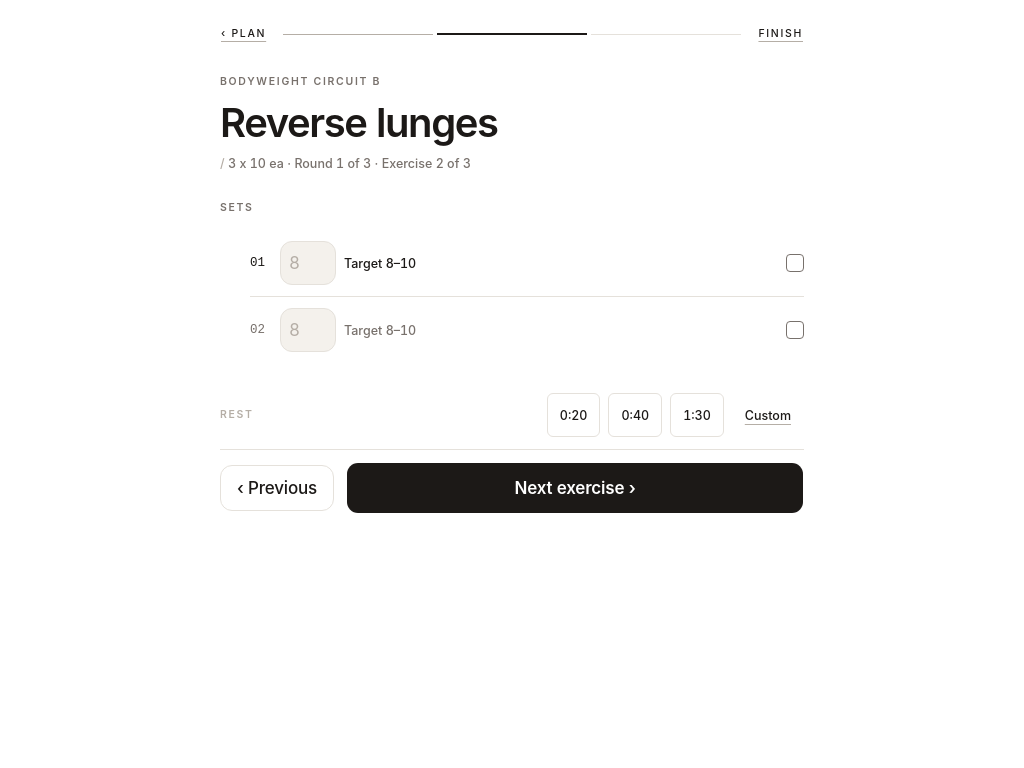
Test case: Skip session, once a set is logged › asks before it records, and records nothing by asking
Click the button with aria-label "Finish session": (781, 34) [758,12,804,56]
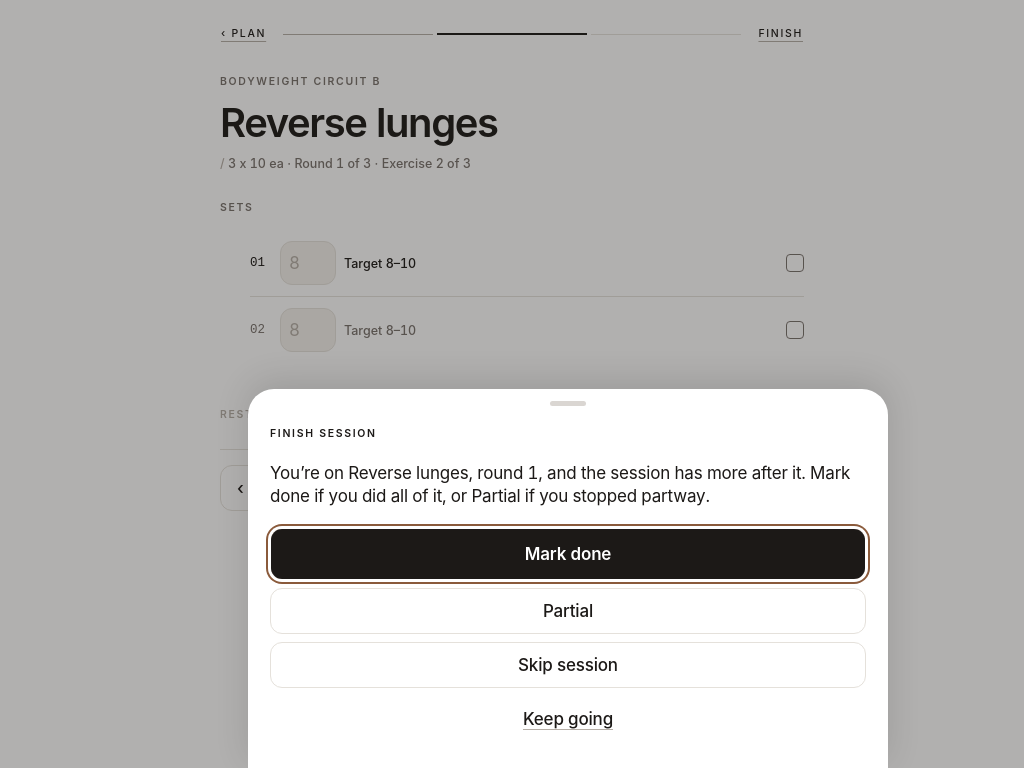
Click the button "Skip session": (568, 665) [270,642,866,688]
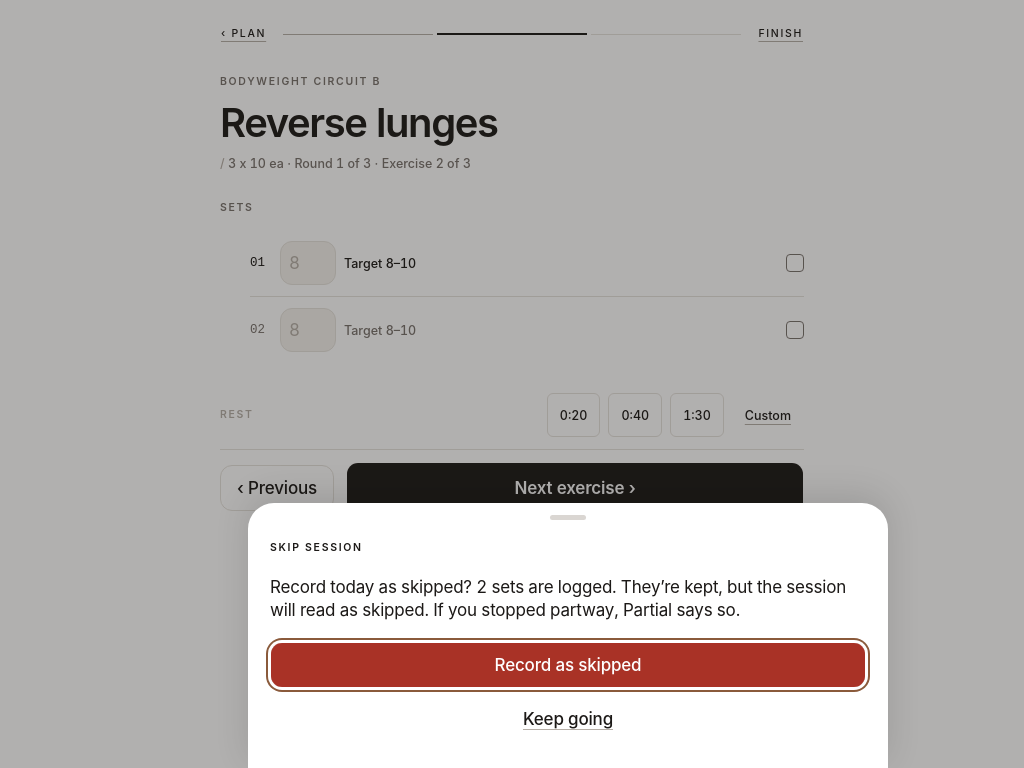
Expected: the dialog "Skip session" is shown, [248,503,888,767]
Expected: the text "2 sets are logged. They’re kept," is shown, [476,577,723,597]
Expected: the text "Partial says so" is shown, [270,577,846,620]
